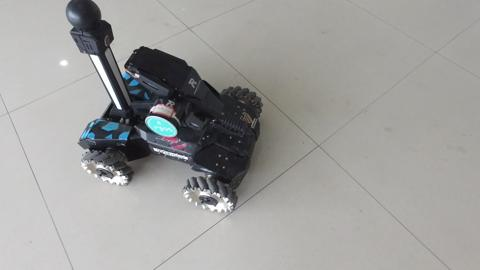chariot: (53, 20, 260, 210)
